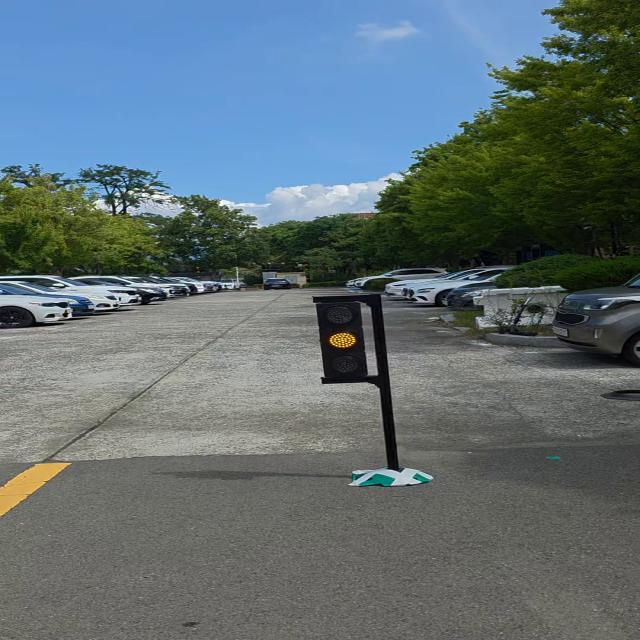yellow: (314, 299, 375, 385)
